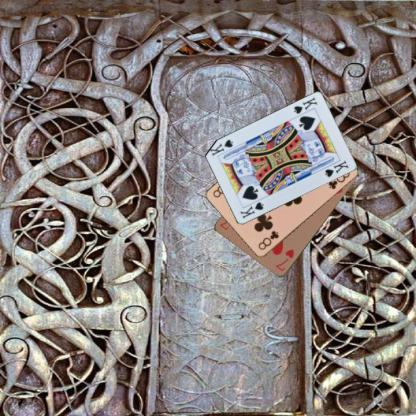7h: (274, 246, 296, 272)
8c: (256, 228, 280, 251)
Ks: (291, 94, 318, 116), (238, 200, 265, 220)
